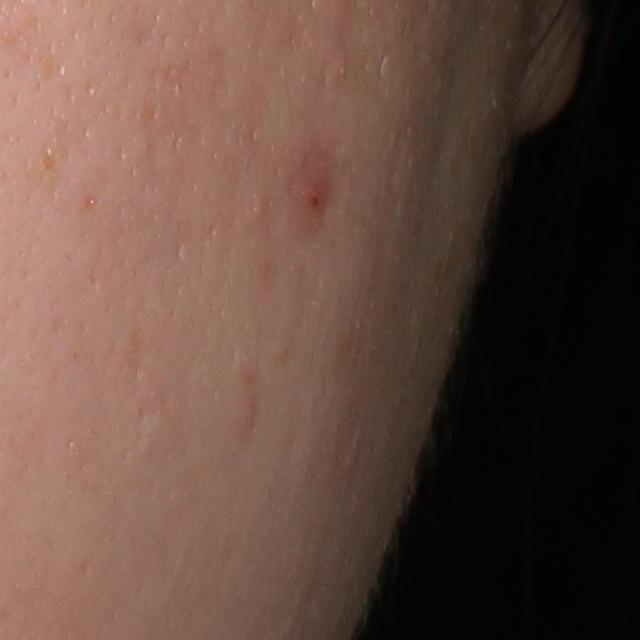papule: (296, 173, 328, 219)
